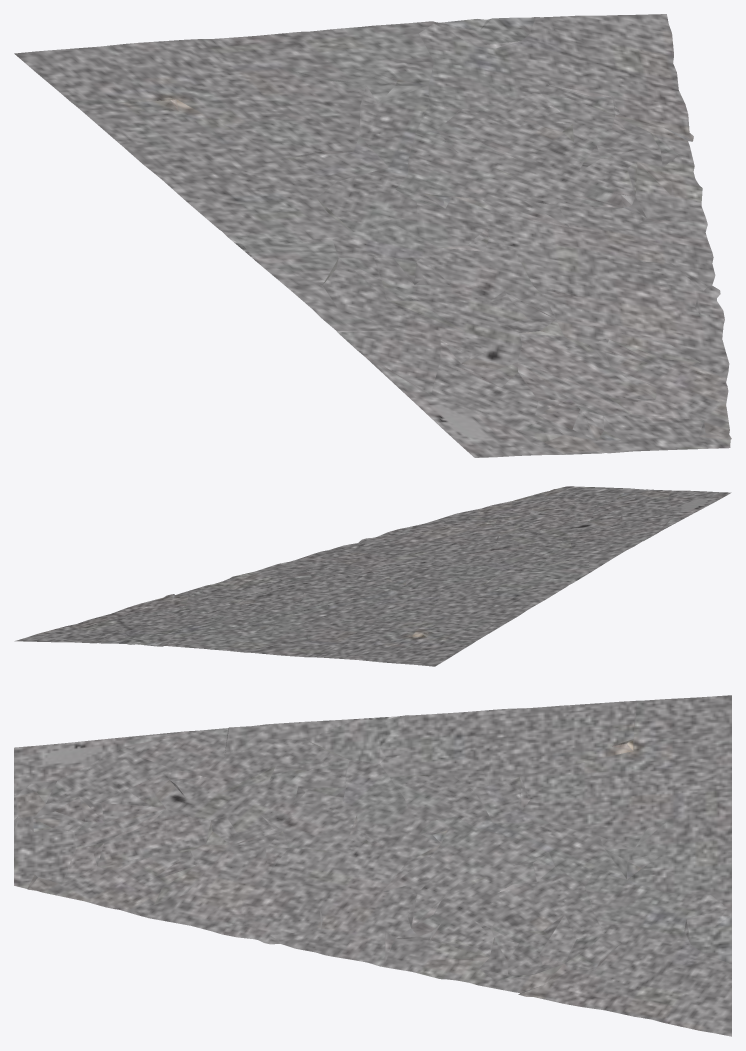
3 renders of one model, top to bottom at view 1: azimuth 30°, elevation 25°; view 2: azimuth 150°, elevation 25°; view 3: azimuth 270°, elevation 25°, orthographic. The views are drawn at different scales.
Size of the model in its own units: 1.37 by 0.2402 by 1.67.
Materials: 2 (2 with a texture image).
